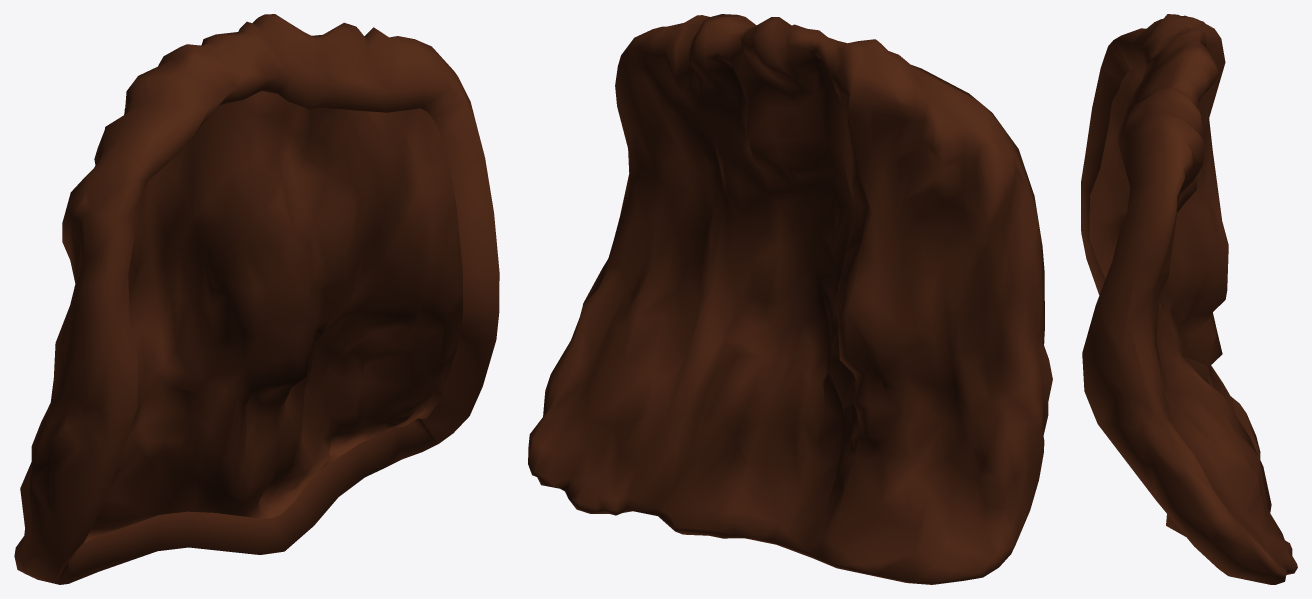
File: env_digsiterock_wall03_lod1.fbx
3 views of the same model, side by side, from view 1: azimuth 30°, elevation 25°; view 2: azimuth 150°, elevation 25°; view 3: azimuth 270°, elevation 25° (orthographic). The views are drawn at different scales.
Parts seen in each view (by area): view 1: env_digsiterock_wall03.002; view 2: env_digsiterock_wall03.002; view 3: env_digsiterock_wall03.002.
Boxes of the visible parts, left/top/right/bottom form: env_digsiterock_wall03.002: left=14, top=14, right=499, bottom=584; env_digsiterock_wall03.002: left=528, top=14, right=1052, bottom=584; env_digsiterock_wall03.002: left=1081, top=14, right=1297, bottom=584.
Size of the model in its own units: 755 by 803 by 324.
